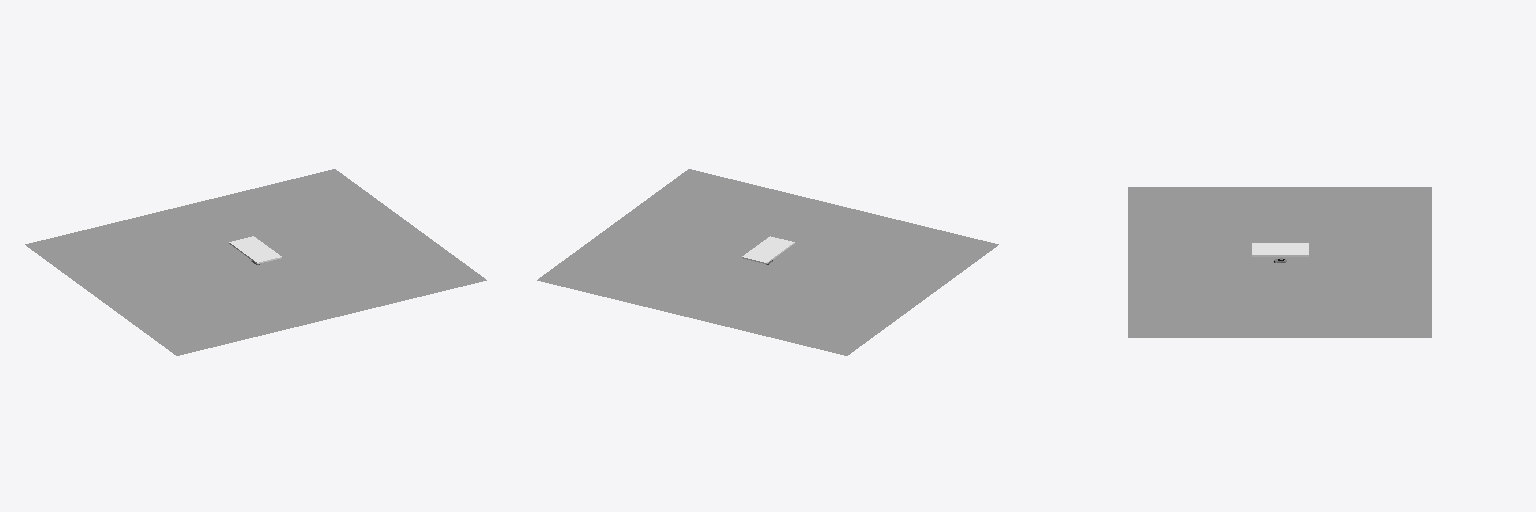
Rendered from porsche-911.obj.
3 views of the same model, side by side, from view 1: azimuth 30°, elevation 25°; view 2: azimuth 150°, elevation 25°; view 3: azimuth 270°, elevation 25° (orthographic).
Visible parts, largest first — view 1: Plane01, reflect_box01; view 2: Plane01, reflect_box01; view 3: Plane01, reflect_box01.
Part boxes in pixels (left/top/right/bottom): Plane01: left=25, top=169, right=486, bottom=355; reflect_box01: left=229, top=236, right=281, bottom=263; Plane01: left=537, top=169, right=998, bottom=355; reflect_box01: left=742, top=236, right=794, bottom=263; Plane01: left=1128, top=187, right=1431, bottom=337; reflect_box01: left=1252, top=243, right=1308, bottom=256.
Size of the model in its own units: 117 by 4.68 by 99.26.